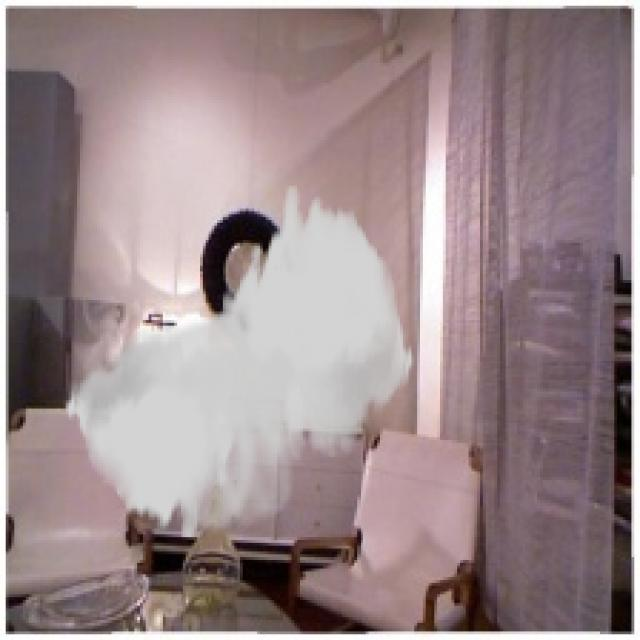smoke: (63, 186, 414, 540)
